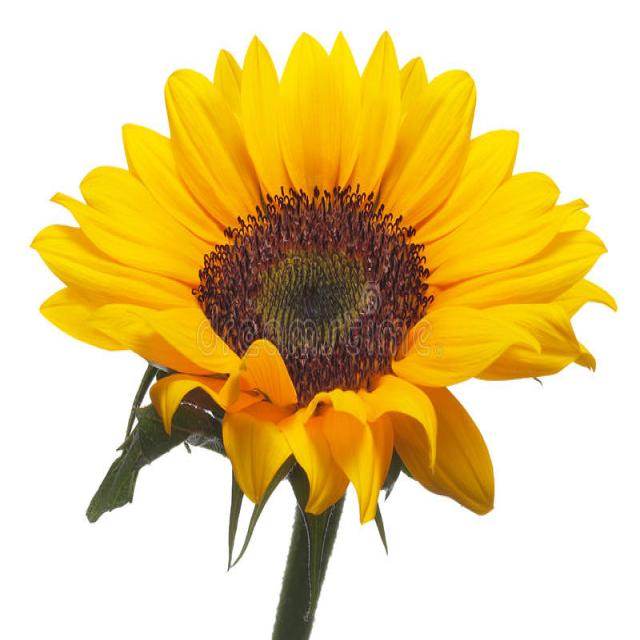sunflower: (23, 3, 624, 543)
